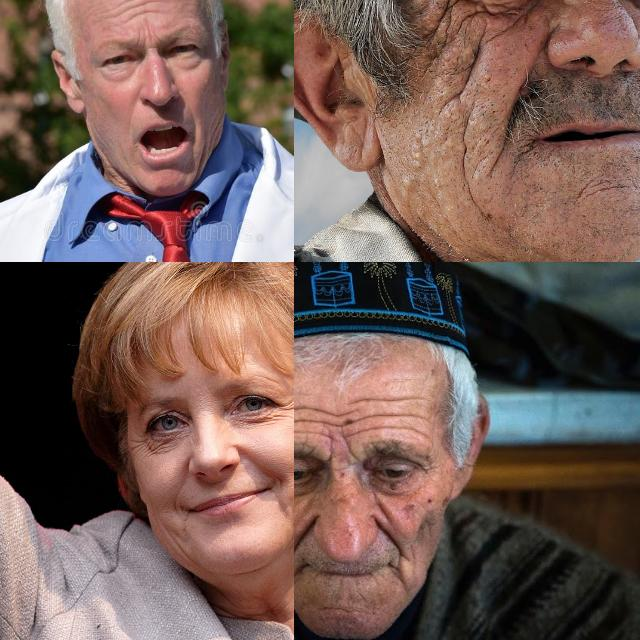chin: (574, 177, 620, 200), (318, 602, 348, 618)
crows_feet: (429, 0, 471, 21), (130, 436, 156, 460), (276, 396, 294, 418)
forehead: (310, 403, 342, 431), (379, 409, 413, 435), (386, 389, 422, 409), (119, 0, 163, 16), (348, 413, 374, 437), (352, 389, 378, 409), (294, 401, 305, 426), (294, 426, 307, 441)
frown_line: (338, 436, 362, 464), (324, 436, 338, 466), (142, 28, 160, 50)
gummy_smile: (376, 520, 404, 550), (294, 518, 314, 551)
masseter: (448, 140, 490, 197), (456, 38, 496, 94), (166, 532, 197, 566), (192, 135, 210, 171)
sad_smile: (166, 494, 188, 526), (269, 472, 287, 498)
